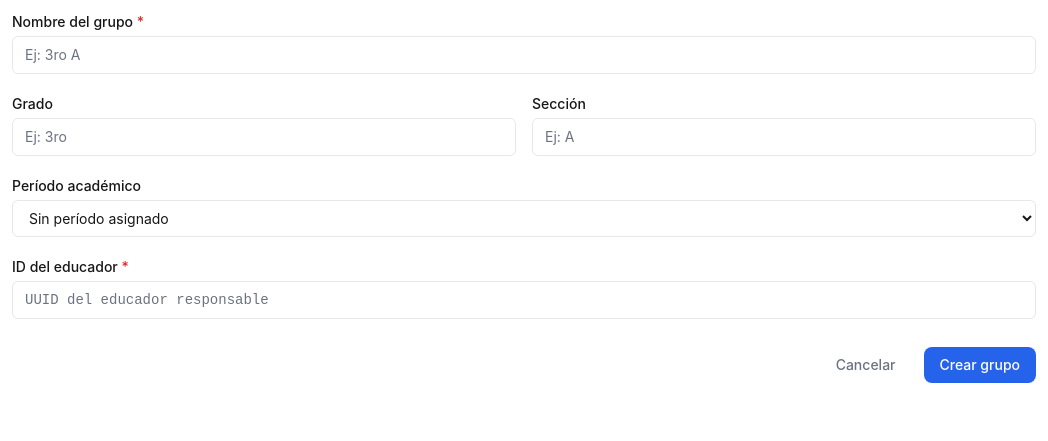
Test case: GrupoForm › debería mostrar error cuando nombre está vacío al enviar
Click the button "Crear grupo".
click(980, 365)  # box [924, 347, 1036, 383]
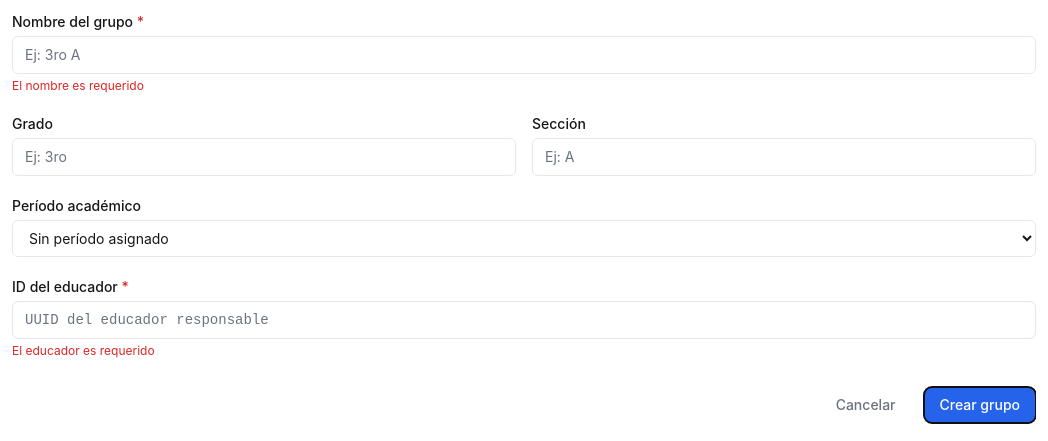
Now the text "El nombre es requerido" is shown, box [12, 78, 144, 93]
